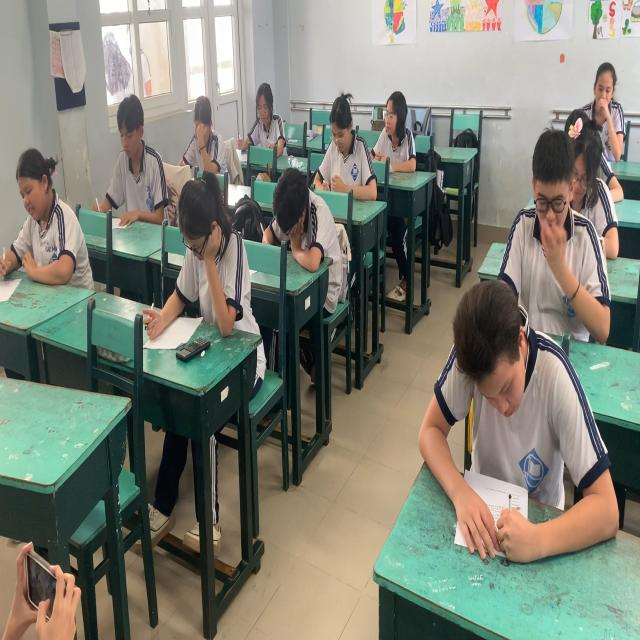not_cheating: (414, 293, 594, 542), (154, 198, 282, 354), (512, 143, 595, 348), (2, 136, 104, 292), (100, 98, 171, 229), (308, 85, 387, 198), (266, 153, 332, 265), (373, 74, 422, 185), (234, 60, 290, 157), (554, 99, 595, 201), (175, 70, 218, 167), (583, 60, 619, 143)
